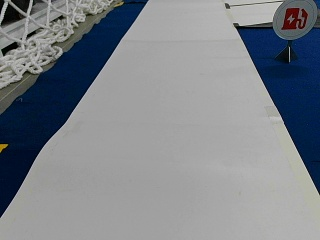battery: (271, 0, 317, 40)
